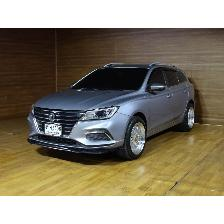EV: (29, 61, 198, 161)
